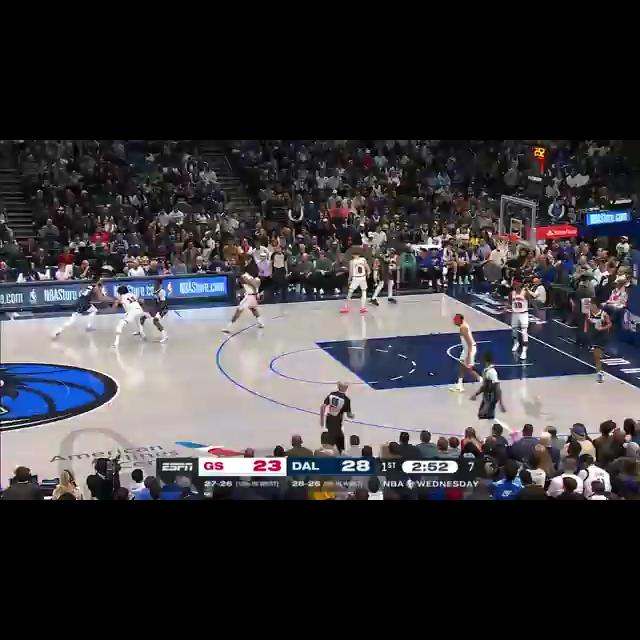Team-1-Player: (50, 272, 110, 342), (570, 301, 618, 385), (465, 354, 507, 440), (132, 278, 174, 346), (369, 236, 401, 304)
Team-2-Player: (438, 308, 486, 394), (226, 270, 272, 342), (498, 284, 536, 362), (106, 282, 144, 352), (344, 248, 372, 322)
